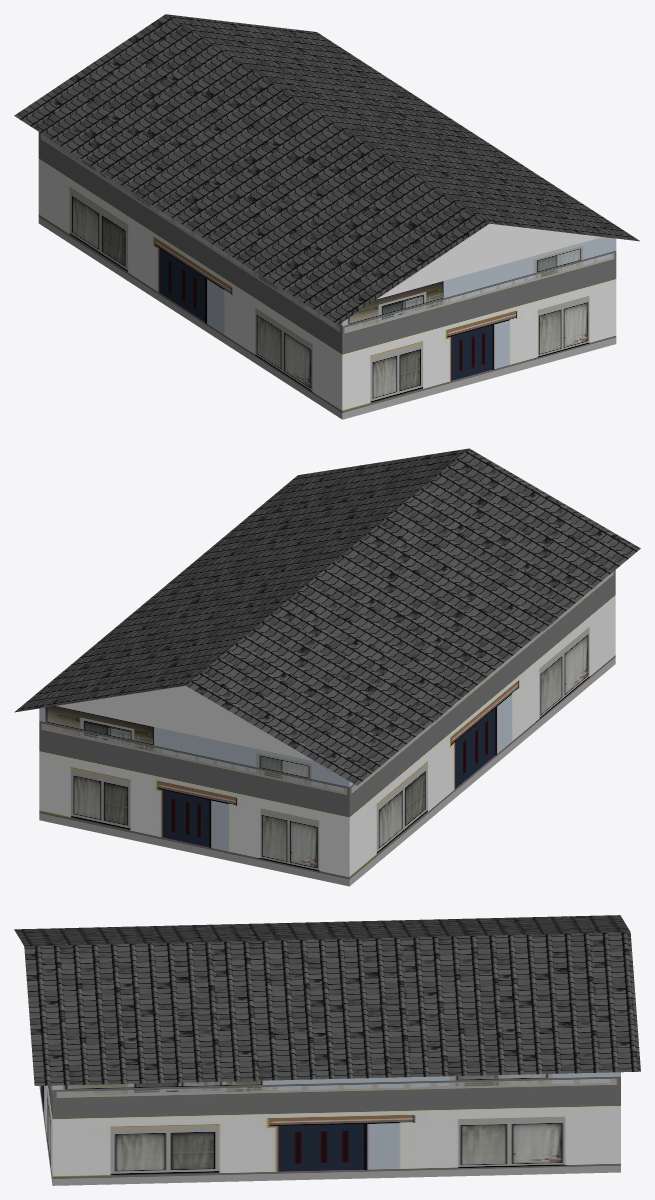
3 views of the same model, one above another, from view 1: azimuth 30°, elevation 25°; view 2: azimuth 150°, elevation 25°; view 3: azimuth 270°, elevation 25° (orthographic). The views are drawn at different scales.
Visible parts, largest first — view 1: CityEngineMaterial_8_m, CityEngineMaterial_7_m, CityEngineMaterial_3_m; view 2: CityEngineMaterial_8_m, CityEngineMaterial_7_m, CityEngineMaterial_3_m; view 3: CityEngineMaterial_8_m, CityEngineMaterial_7_m.
Boxes of the visible parts, left/top/right/bottom form: CityEngineMaterial_8_m: left=14, top=14, right=639, bottom=324; CityEngineMaterial_7_m: left=38, top=132, right=616, bottom=419; CityEngineMaterial_3_m: left=377, top=223, right=601, bottom=299; CityEngineMaterial_8_m: left=14, top=448, right=640, bottom=785; CityEngineMaterial_7_m: left=39, top=570, right=615, bottom=886; CityEngineMaterial_3_m: left=56, top=685, right=314, bottom=761; CityEngineMaterial_8_m: left=14, top=915, right=640, bottom=1085; CityEngineMaterial_7_m: left=39, top=1072, right=620, bottom=1185.
Size of the model in its own units: 21.34 by 9.84 by 33.08.
